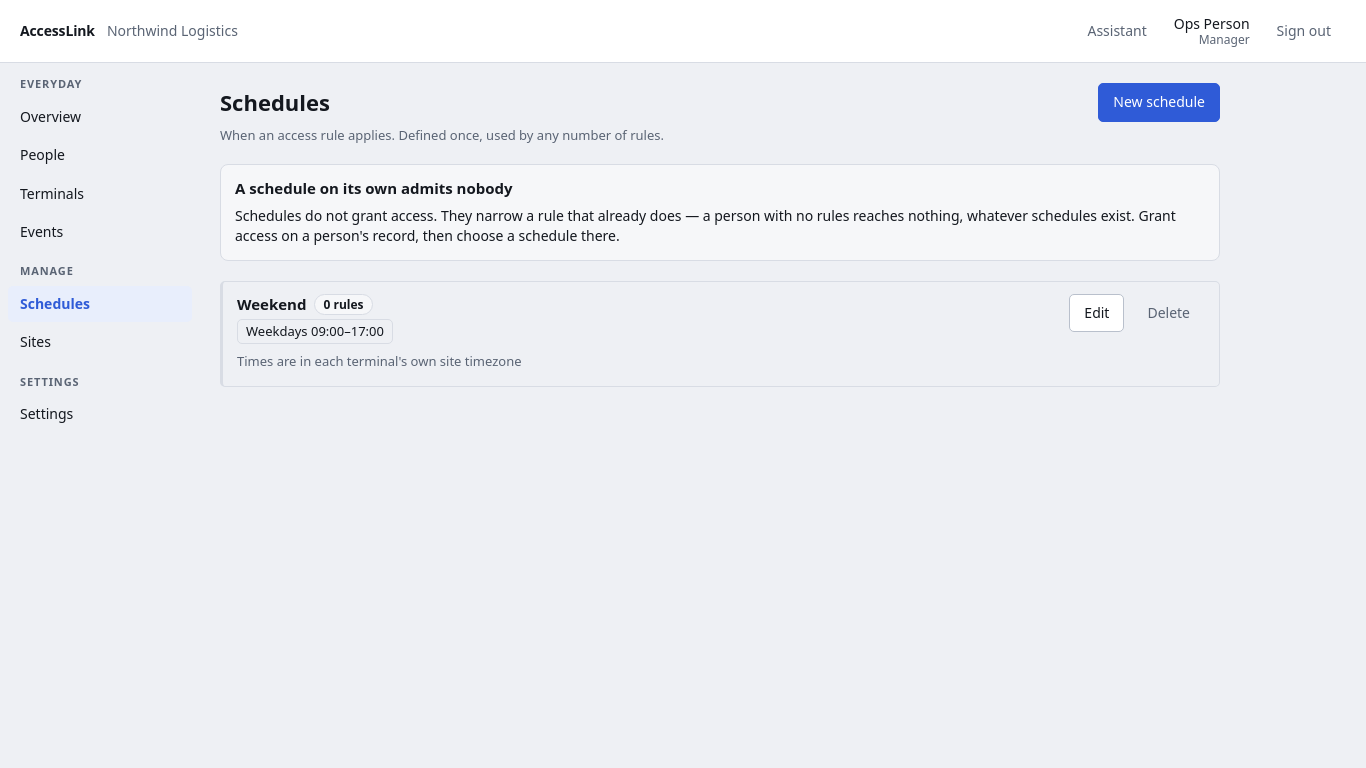
Test: the delete-schedule card › states that nothing uses it, and refreshes the schedules once it ran
This screenshot has width=1366, height=768.
Expected: the heading "Weekend 0 rules" is shown, [237,294,372,315]
Click the button "Assistant" at (1117, 31), box [1072,12,1162,50]
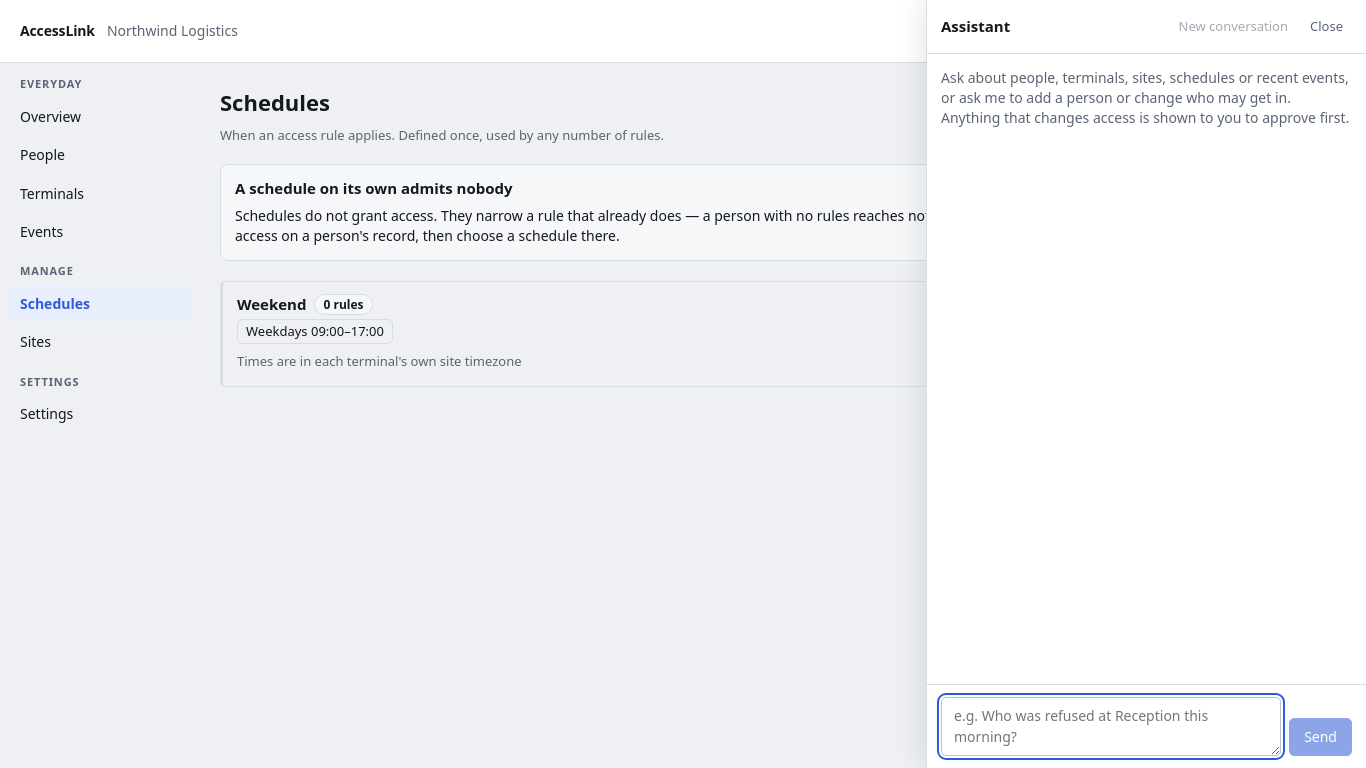
Type "delete the Weekend schedule" into the text box named "Message the assistant" at (1111, 727), box [941,697,1281,756]
Then press Enter
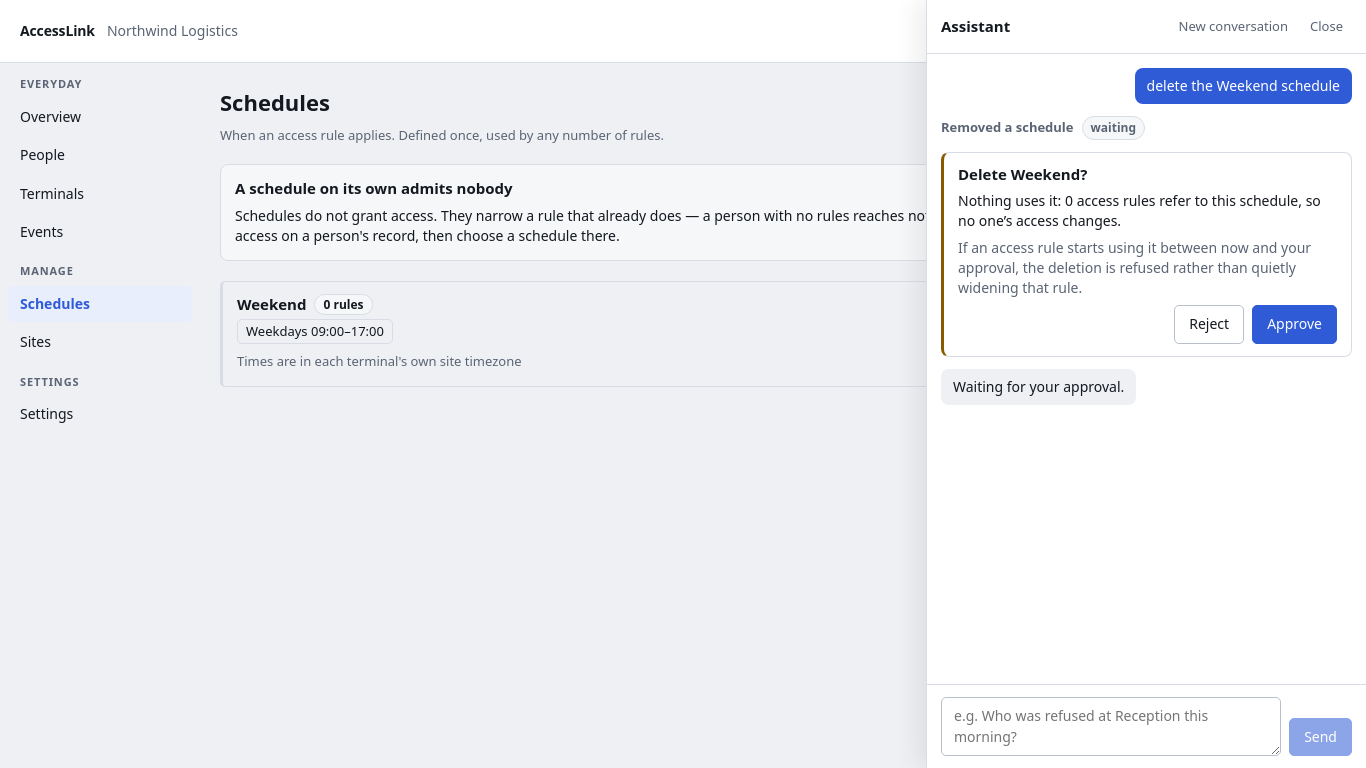
Expected: the text "0 access rules refer to this schedule" is shown, [958,191,1321,230]
Expected: the text "refused rather than quietly widening" is shown, [958,238,1311,297]
Click the button "Approve" at (1295, 324), box [1252,305,1337,344]
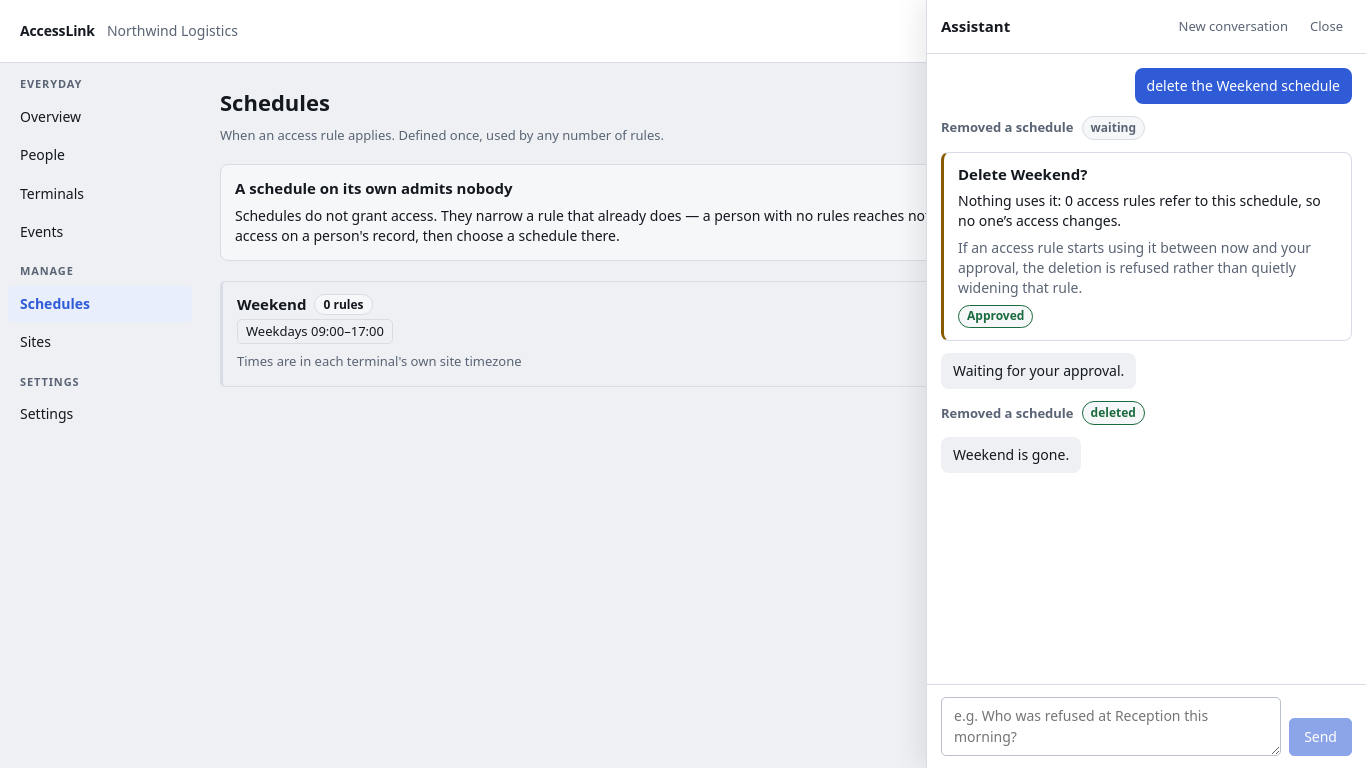
Expected: the 1st text "Removed a schedule" is shown, [941,118,1074,137]
Expected: the text "Weekend is gone." is shown, [941,437,1081,473]
